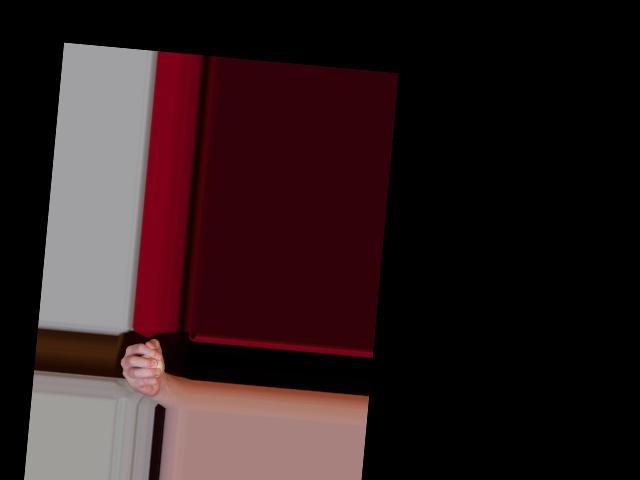egg: (138, 351, 163, 377)
